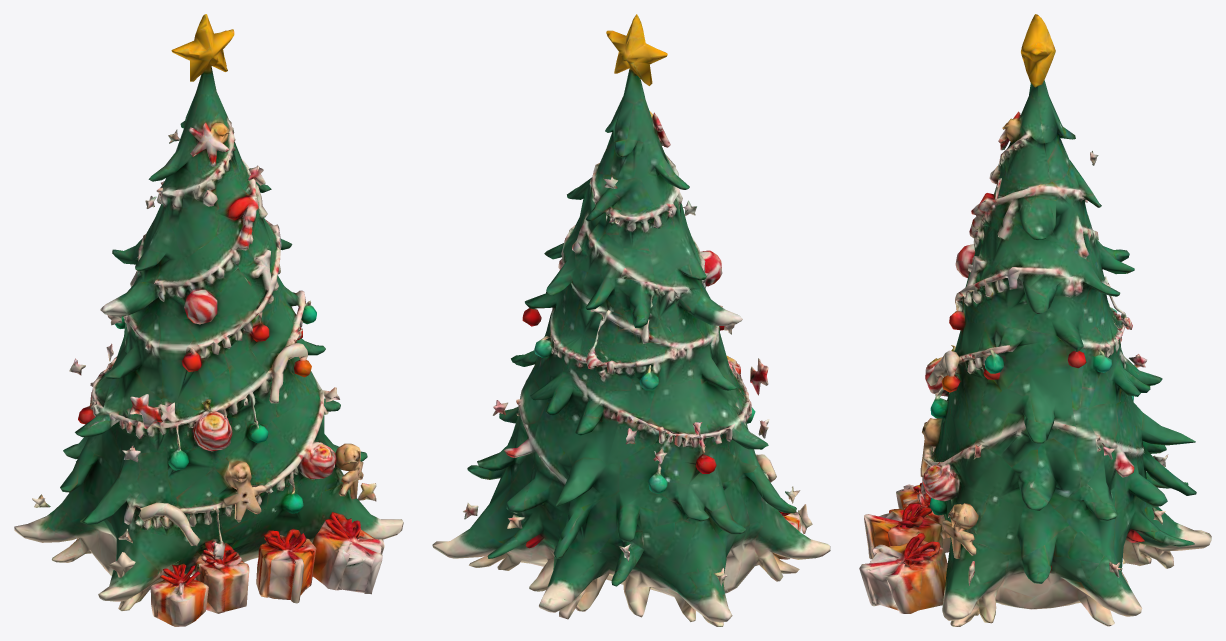
File: xm_tree.glb
3 views of the same model, side by side, from view 1: azimuth 30°, elevation 25°; view 2: azimuth 150°, elevation 25°; view 3: azimuth 270°, elevation 25° (orthographic). The views are drawn at different scales.
Size of the model in its own units: 0.0298 by 0.05 by 0.0289.
1 material, 1 textured.
